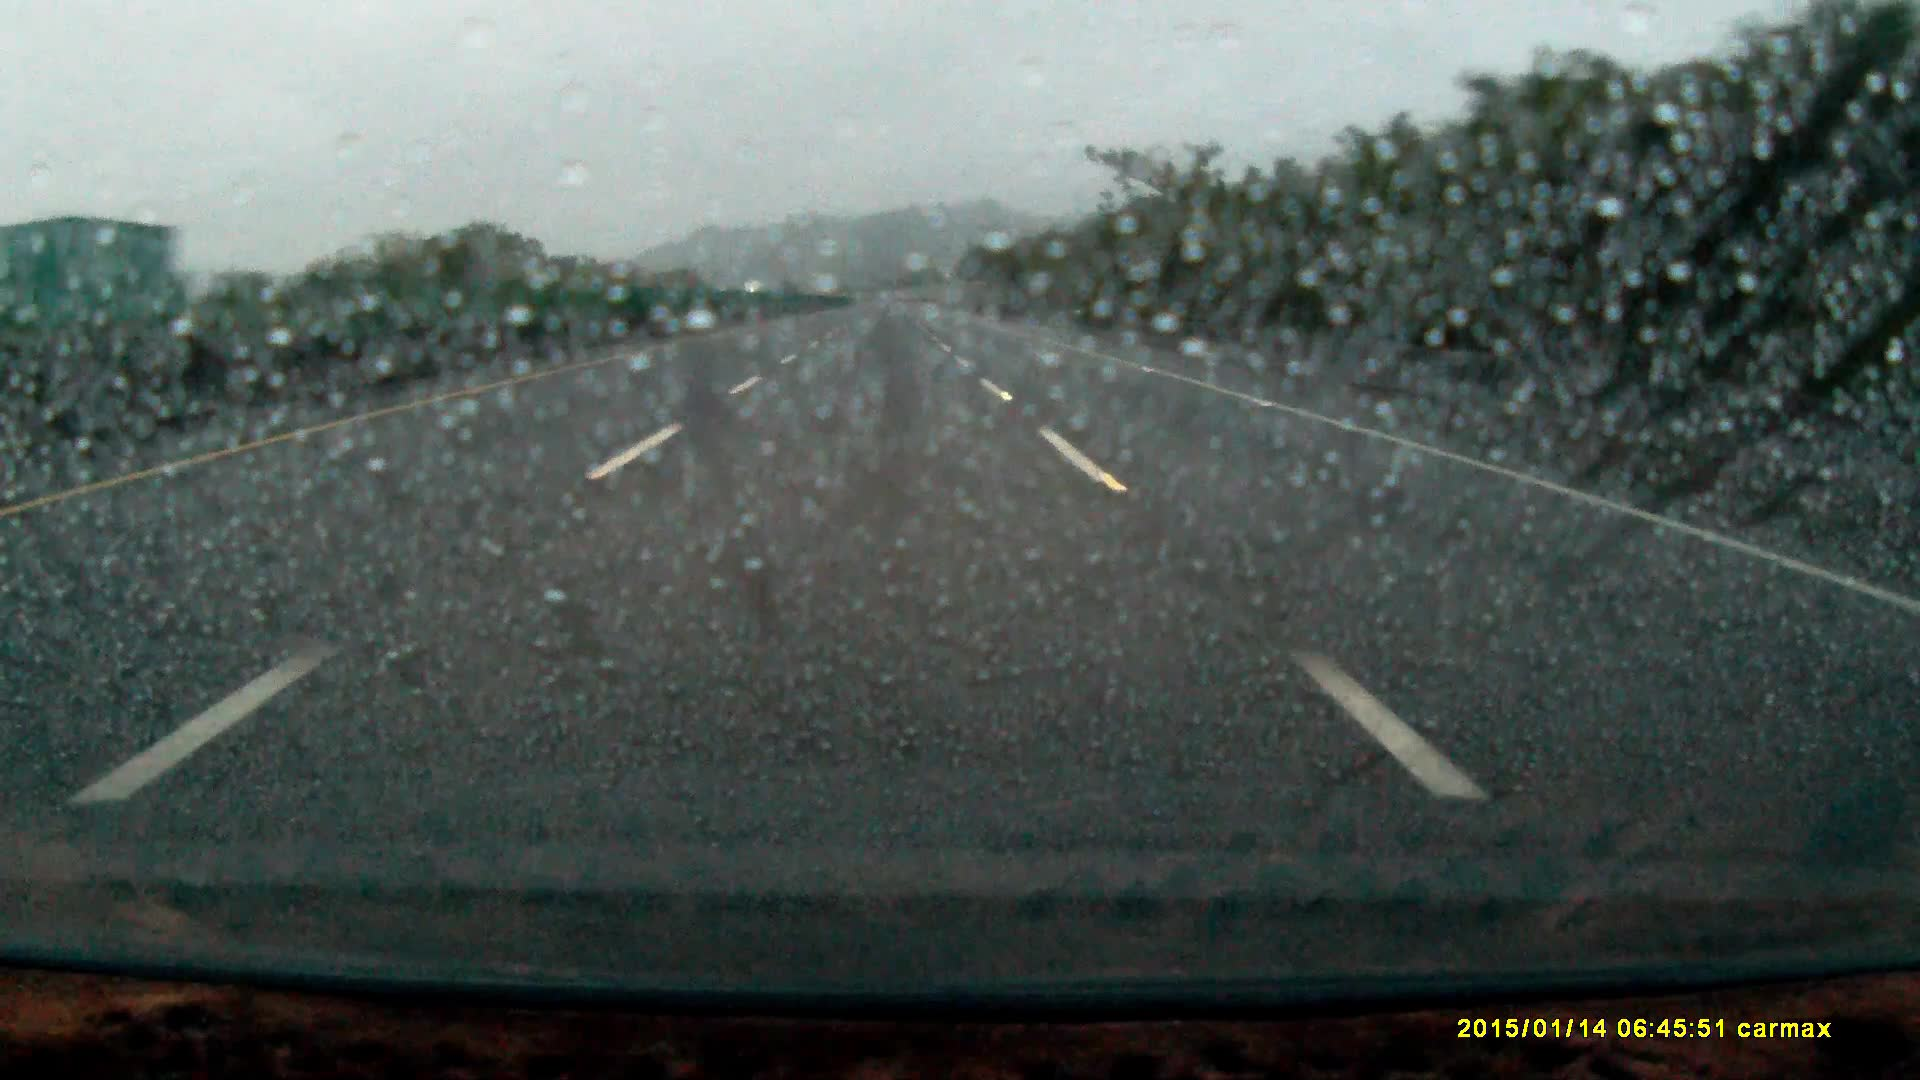vehicle: (1, 222, 185, 357)
